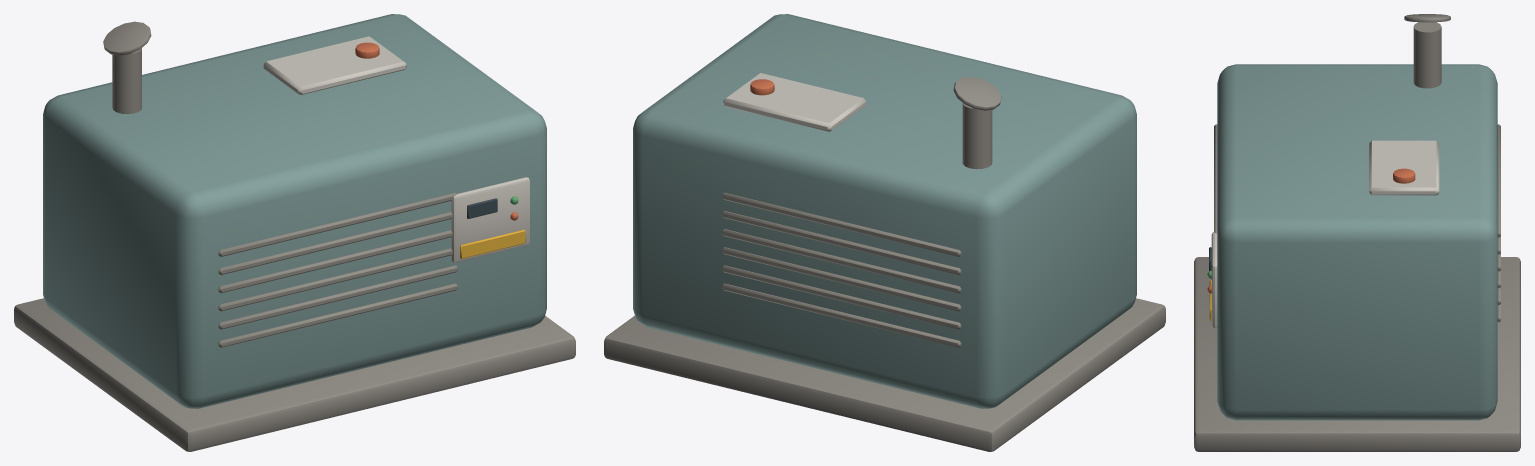
Rendered from generator.glb.
3 renders of one model, left to right at view 1: azimuth 30°, elevation 25°; view 2: azimuth 150°, elevation 25°; view 3: azimuth 270°, elevation 25°, orthographic. The views are drawn at different scales.
Parts seen in each view (by area): view 1: paint, steel_dark, steel, hazard; view 2: paint, steel_dark, steel; view 3: paint, steel_dark, steel, food_c.
Part boxes in pixels (bbox=[...]): paint: bbox=[43, 14, 546, 408]; steel_dark: bbox=[14, 21, 575, 451]; steel: bbox=[263, 36, 529, 262]; hazard: bbox=[460, 229, 525, 258]; paint: bbox=[633, 14, 1136, 408]; steel_dark: bbox=[604, 76, 1165, 451]; steel: bbox=[723, 73, 866, 131]; paint: bbox=[1217, 64, 1497, 420]; steel_dark: bbox=[1194, 14, 1520, 451]; steel: bbox=[1211, 140, 1439, 327]; food_c: bbox=[1207, 168, 1415, 293].
Size of the model in its own units: 1.8 by 1.4 by 1.4.
